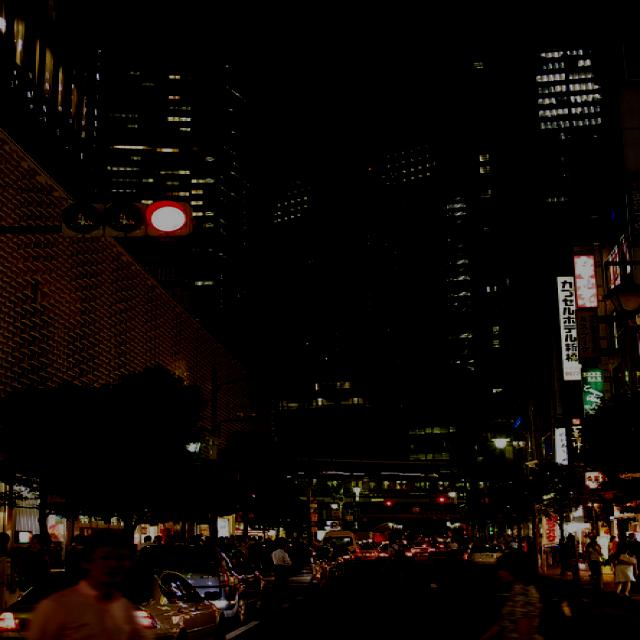Vehicle: (0, 566, 228, 640), (134, 544, 268, 626), (286, 540, 332, 592), (462, 542, 505, 570), (314, 544, 348, 578), (248, 542, 282, 566), (378, 543, 415, 565), (331, 544, 356, 568), (427, 540, 451, 558), (360, 544, 378, 564), (346, 546, 364, 566)
